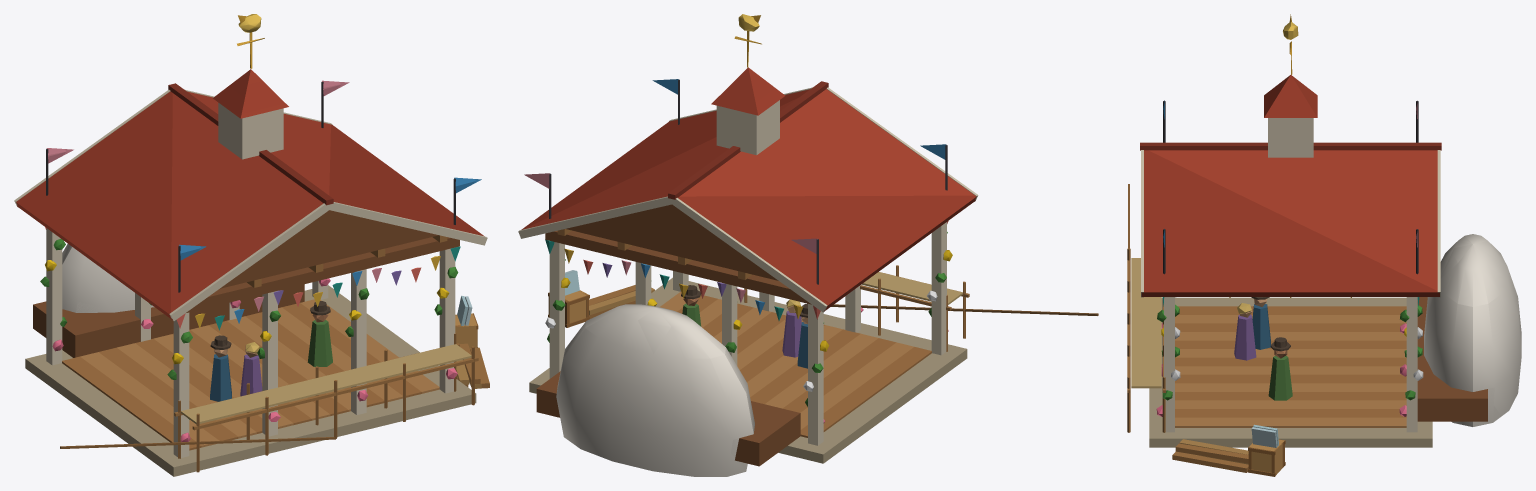
File: festival_pavilion.glb
3 views of the same model, side by side, from view 1: azimuth 30°, elevation 25°; view 2: azimuth 150°, elevation 25°; view 3: azimuth 270°, elevation 25° (orthographic). The views are drawn at different scales.
Visible parts, largest first — view 1: town-festival_pavilion-5, town-festival_pavilion-4, town-festival_pavilion-7, town-festival_pavilion-8, town-festival_pavilion-3, town-festival_pavilion-2, town-festival_pavilion-1, town-festival_pavilion-6; view 2: town-festival_pavilion-5, town-festival_pavilion-8, town-festival_pavilion-7, town-festival_pavilion-4, town-festival_pavilion-3, town-festival_pavilion-1, town-festival_pavilion-2; view 3: town-festival_pavilion-5, town-festival_pavilion-4, town-festival_pavilion-8, town-festival_pavilion-7, town-festival_pavilion-3, town-festival_pavilion-2, town-festival_pavilion-1, town-festival_pavilion-6.
Boxes of the visible parts, bbox=[...] form: town-festival_pavilion-5: bbox=[17, 82, 486, 457]; town-festival_pavilion-4: bbox=[62, 299, 439, 448]; town-festival_pavilion-7: bbox=[15, 69, 487, 457]; town-festival_pavilion-8: bbox=[14, 14, 487, 450]; town-festival_pavilion-3: bbox=[17, 82, 476, 476]; town-festival_pavilion-2: bbox=[25, 80, 489, 475]; town-festival_pavilion-1: bbox=[25, 235, 489, 476]; town-festival_pavilion-6: bbox=[41, 239, 457, 442]; town-festival_pavilion-5: bbox=[518, 79, 976, 469]; town-festival_pavilion-8: bbox=[519, 14, 978, 476]; town-festival_pavilion-7: bbox=[521, 67, 977, 462]; town-festival_pavilion-4: bbox=[660, 288, 931, 436]; town-festival_pavilion-3: bbox=[524, 80, 975, 463]; town-festival_pavilion-1: bbox=[545, 229, 1097, 463]; town-festival_pavilion-2: bbox=[545, 80, 1098, 462]; town-festival_pavilion-5: bbox=[1141, 100, 1506, 447]; town-festival_pavilion-4: bbox=[1175, 298, 1406, 427]; town-festival_pavilion-8: bbox=[1140, 14, 1521, 424]; town-festival_pavilion-7: bbox=[1152, 75, 1509, 447]; town-festival_pavilion-3: bbox=[1140, 101, 1441, 447]; town-festival_pavilion-2: bbox=[1127, 100, 1419, 475]; town-festival_pavilion-1: bbox=[1127, 249, 1285, 476]; town-festival_pavilion-6: bbox=[1156, 297, 1493, 426].
Size of the model in its own units: 10.68 by 7.93 by 7.8.
